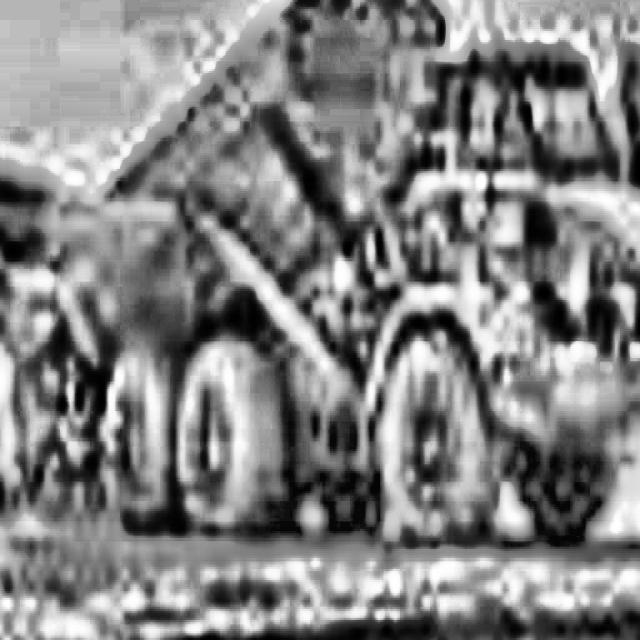dump_truck: (42, 0, 639, 613)
